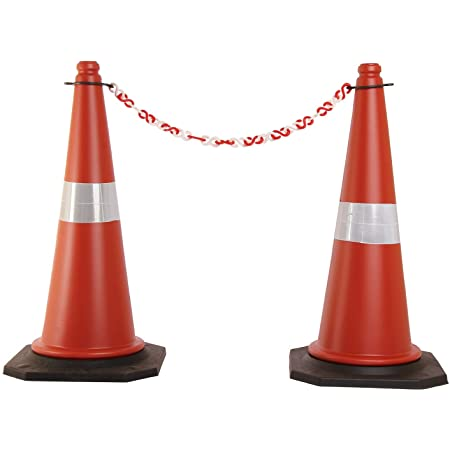cones: (280, 62, 450, 392), (18, 59, 178, 385)
